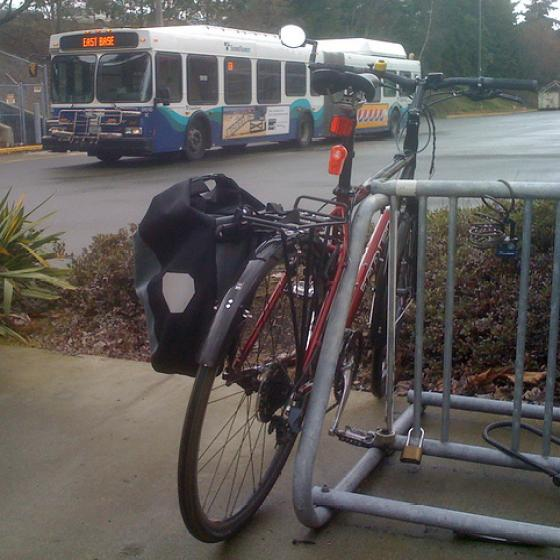bicycle: (173, 25, 541, 543)
bus: (25, 16, 432, 155)
